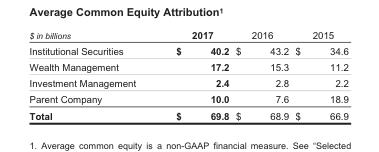table: (28, 28, 347, 120)
table column: (28, 28, 155, 120), (155, 28, 231, 120), (231, 28, 291, 120), (291, 28, 347, 120)
table column header: (28, 28, 347, 42)
table row: (28, 42, 347, 58), (28, 58, 347, 74), (28, 74, 347, 90), (28, 90, 347, 106), (28, 28, 347, 42), (28, 106, 347, 120)
